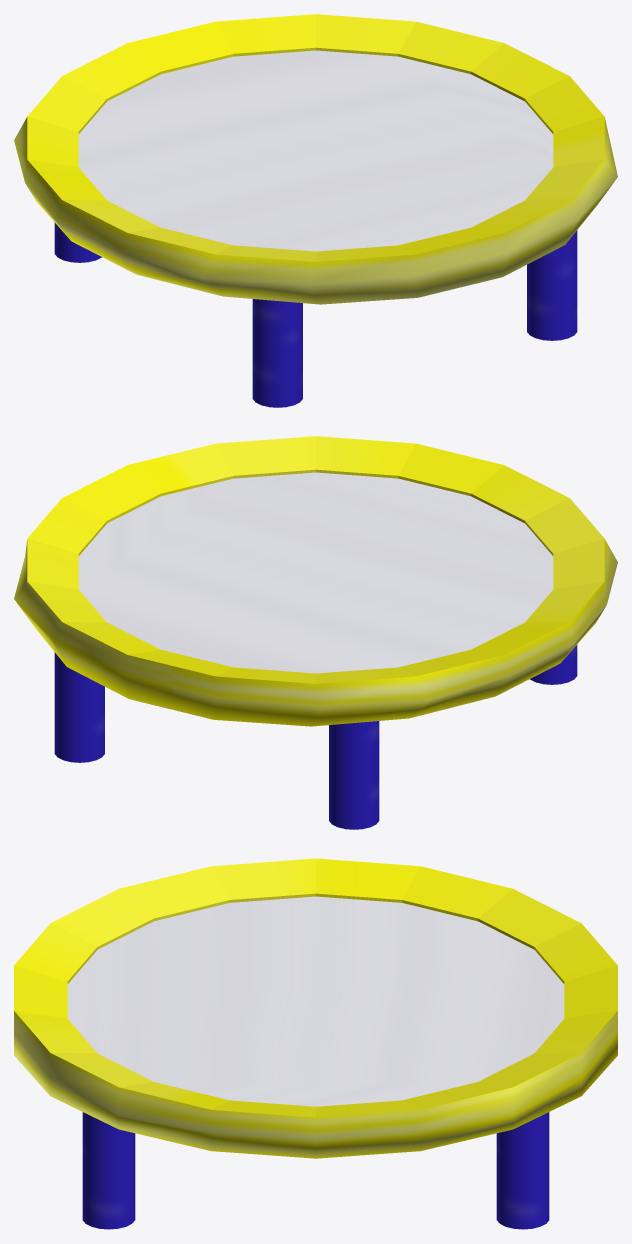
Rendered from trampoline.fbx.
3 views of the same model, one above another, from view 1: azimuth 30°, elevation 25°; view 2: azimuth 150°, elevation 25°; view 3: azimuth 270°, elevation 25° (orthographic). The views are drawn at different scales.
Visible parts, largest first — view 1: Cylinder001; view 2: Cylinder001; view 3: Cylinder001.
Part boxes in pixels (box(x1,y1,x2,y2)): Cylinder001: box(14, 14, 617, 407); Cylinder001: box(14, 436, 617, 829); Cylinder001: box(14, 858, 617, 1229).
Size of the model in its own units: 75.45 by 21.33 by 72.91.
4 materials, 3 textured.
